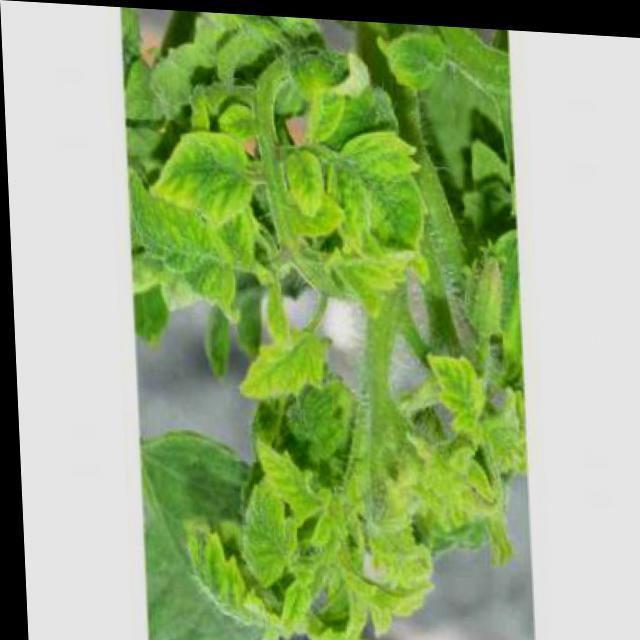Tomato healthy leaf: (332, 115, 424, 274), (148, 116, 265, 230), (180, 516, 279, 624), (227, 317, 345, 406), (254, 430, 318, 521), (426, 331, 477, 432)
